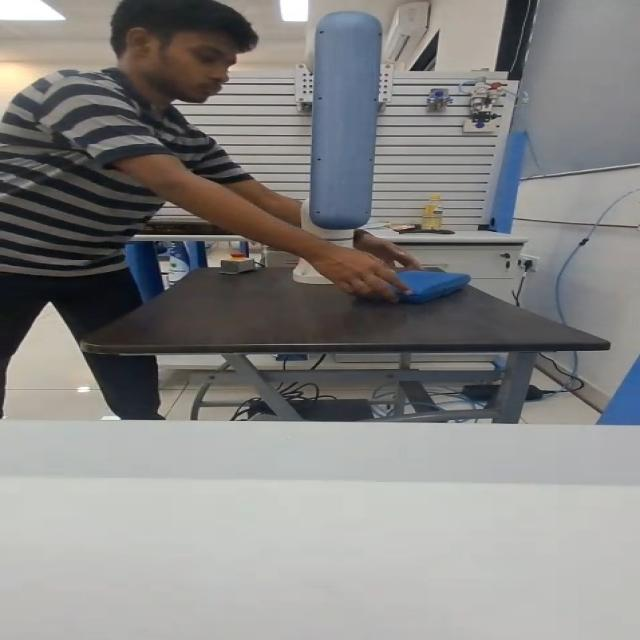top-surface: (382, 272, 449, 285)
